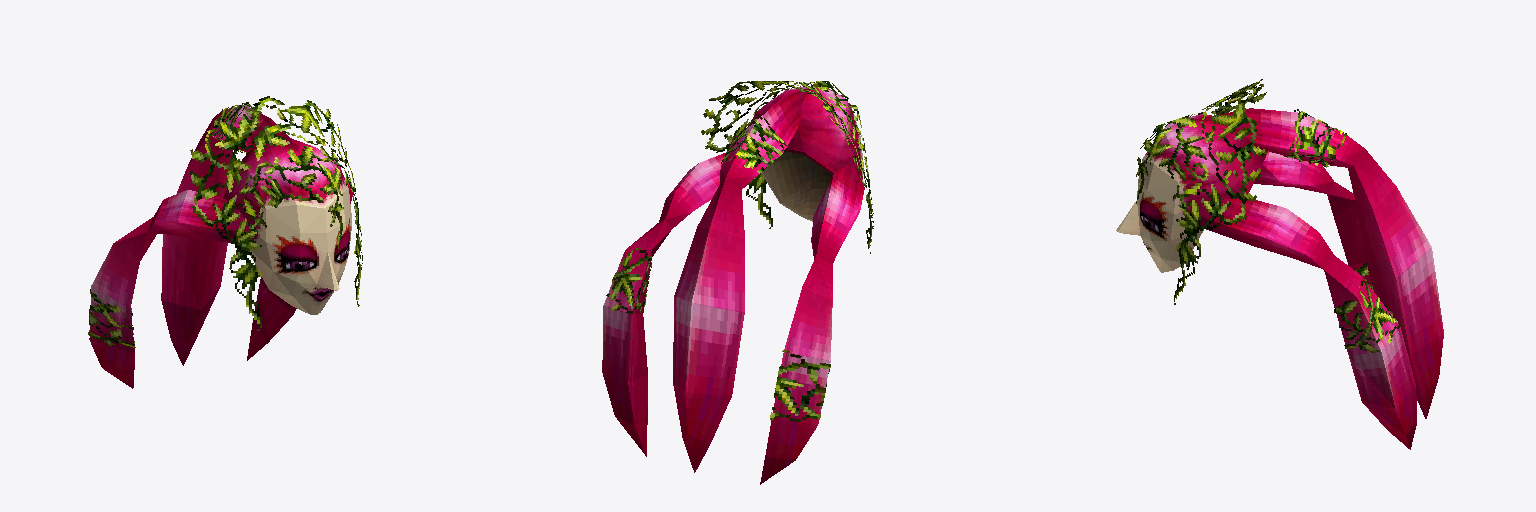
3 renders of one model, left to right at view 1: azimuth 30°, elevation 25°; view 2: azimuth 150°, elevation 25°; view 3: azimuth 270°, elevation 25°, orthographic.
Visible parts, largest first — view 1: node_0037E6EE; view 2: node_0037E6EE, node_01F71E64; view 3: node_0037E6EE.
Boxes of the visible parts, <box> form: node_0037E6EE: <box>88,96,362,388</box>; node_0037E6EE: <box>602,81,873,484</box>; node_01F71E64: <box>763,151,831,218</box>; node_0037E6EE: <box>1116,79,1443,449</box>.
Bounding box in the file's own units: 33.73 × 46.88 × 41.7.
Materials: 2 (2 with a texture image).